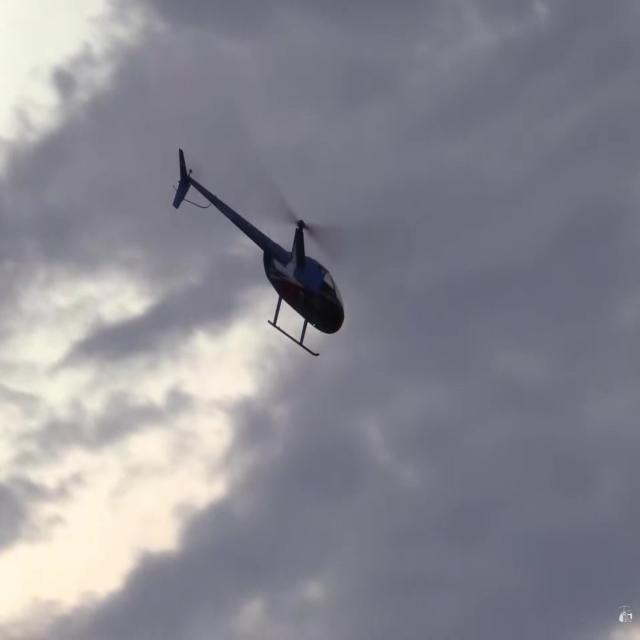CIV_HELO: (171, 144, 347, 362)
